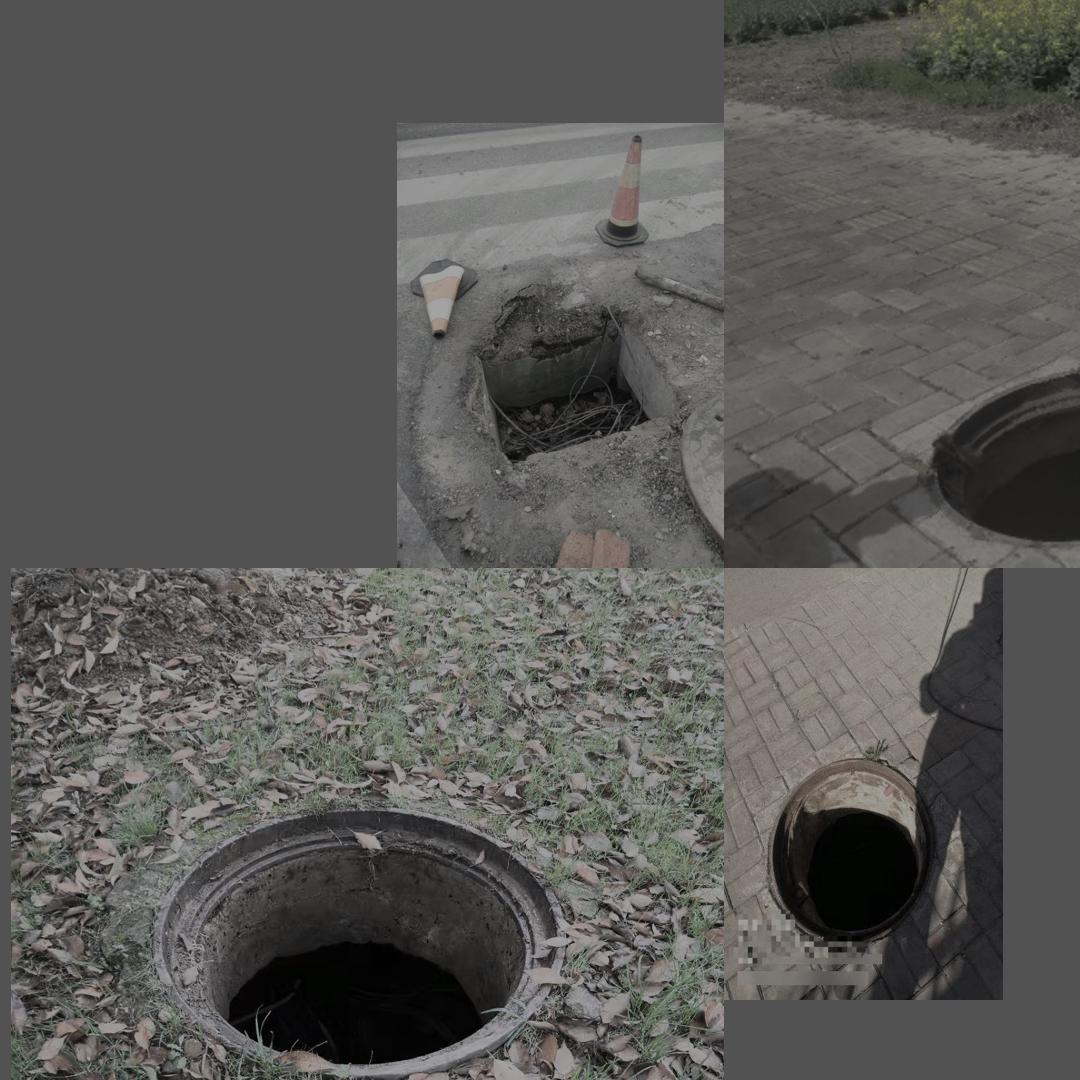lose: (153, 806, 567, 1080), (750, 740, 942, 947), (476, 311, 682, 465), (927, 369, 1080, 543)
